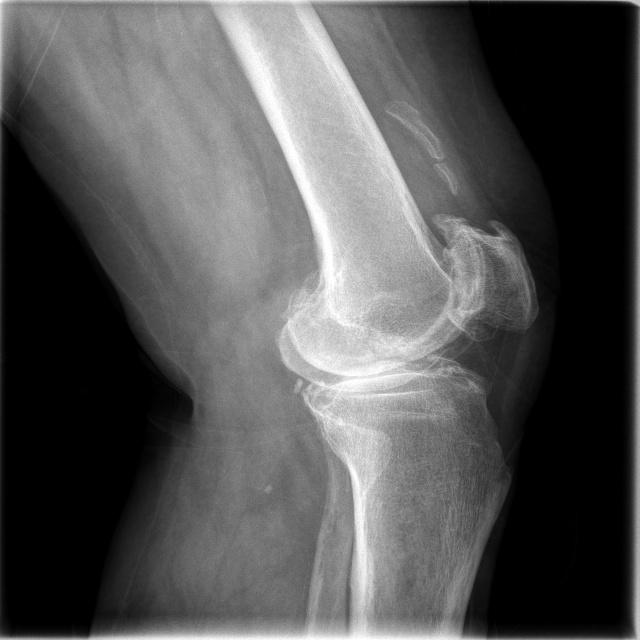Knee: (255, 206, 539, 474)
